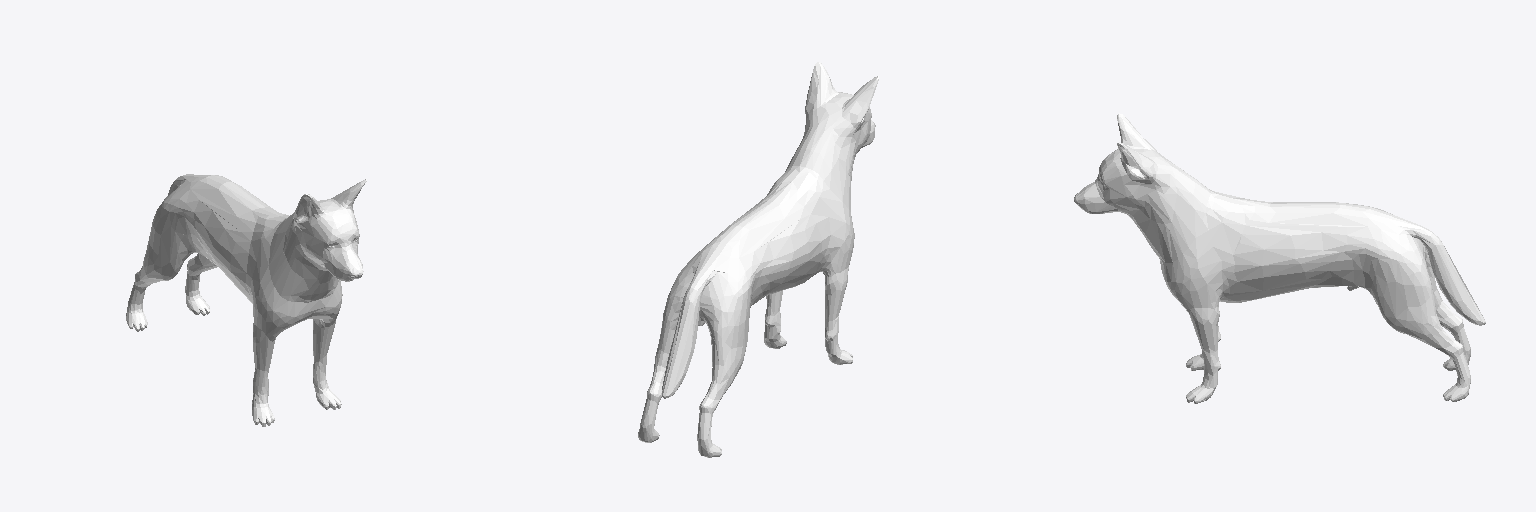
The model's file is low_poly_dog.obj.
3 renders of one model, left to right at view 1: azimuth 30°, elevation 25°; view 2: azimuth 150°, elevation 25°; view 3: azimuth 270°, elevation 25°, orthographic.
Visible parts, largest first — view 1: 13463_Australian_Cattle_Dog_v3; view 2: 13463_Australian_Cattle_Dog_v3; view 3: 13463_Australian_Cattle_Dog_v3.
Part boxes in pixels (left/top/right/bottom): 13463_Australian_Cattle_Dog_v3: left=126, top=174, right=366, bottom=426; 13463_Australian_Cattle_Dog_v3: left=638, top=62, right=878, bottom=457; 13463_Australian_Cattle_Dog_v3: left=1074, top=113, right=1485, bottom=403.
Size of the model in its own units: 9.36 by 26.55 by 38.68.